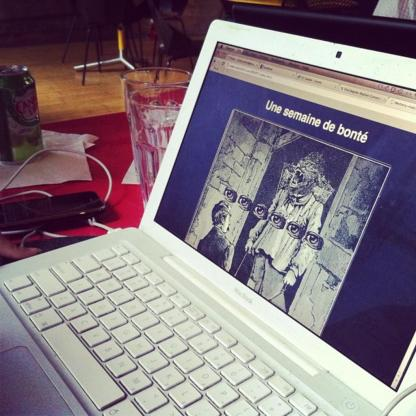board: (0, 20, 415, 415), (0, 62, 44, 165)
